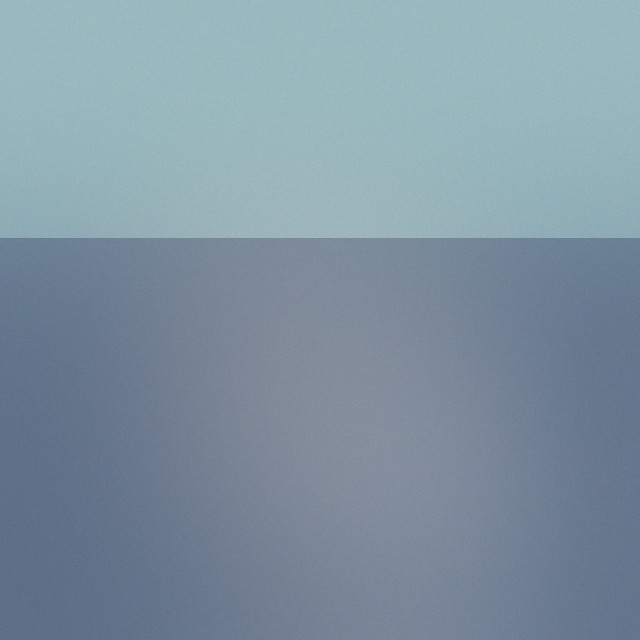smoke: (231, 215, 613, 597)
